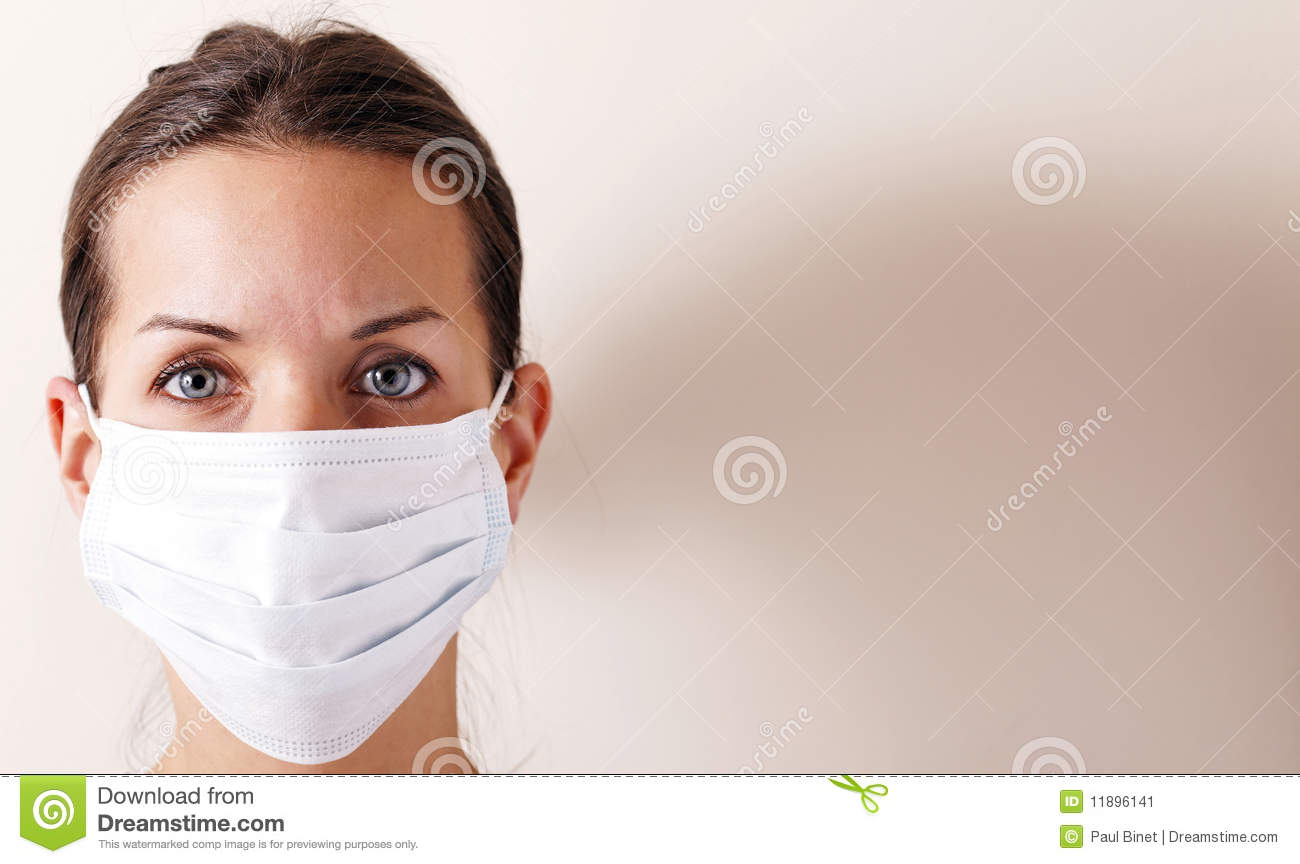mask: (84, 420, 512, 766)
